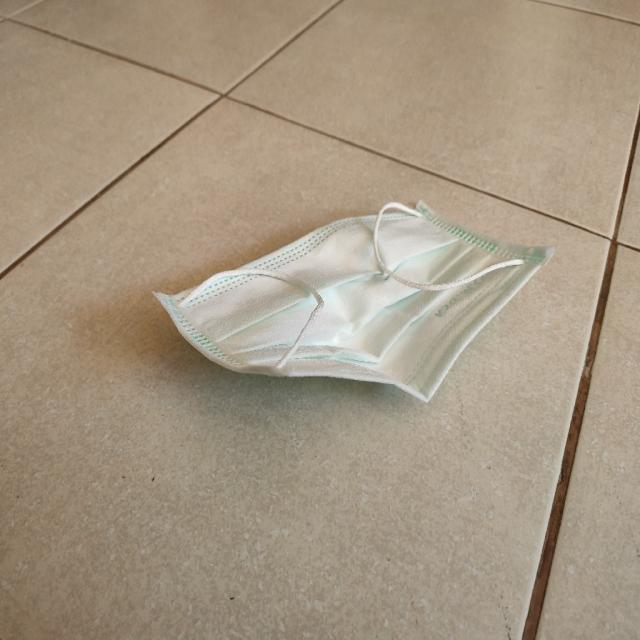non-organic waste: (157, 194, 545, 408)
